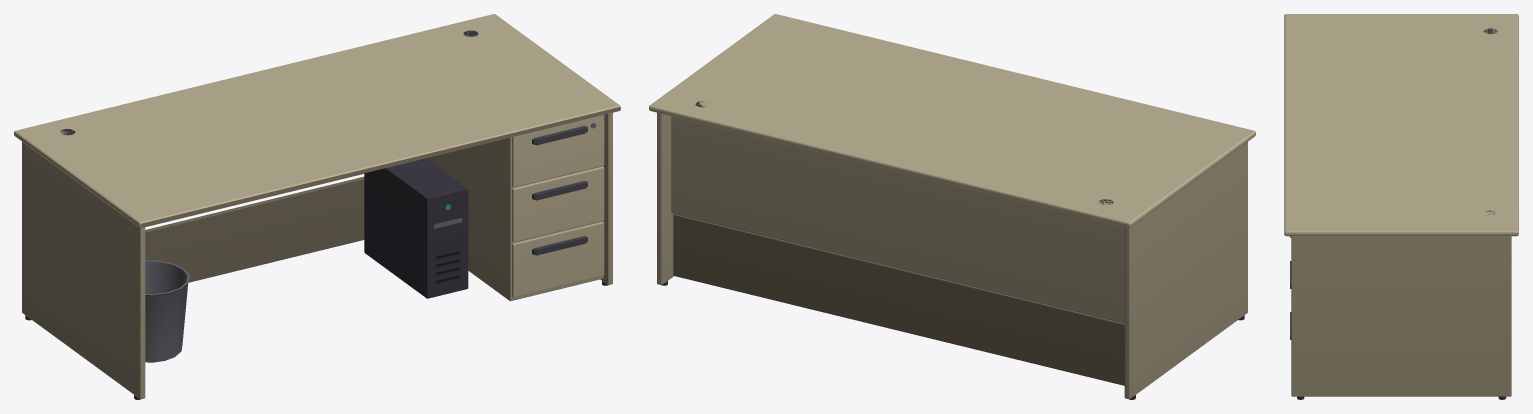
The model's file is office_desk.glb.
3 renders of one model, left to right at view 1: azimuth 30°, elevation 25°; view 2: azimuth 150°, elevation 25°; view 3: azimuth 270°, elevation 25°, orthographic. The views are drawn at different scales.
Visible parts, largest first — view 1: office_desk; view 2: office_desk; view 3: office_desk.
Part boxes in pixels (x1,y1,x2,y2): office_desk: (14,14,620,399); office_desk: (649,14,1255,399); office_desk: (1284,14,1518,399).
Bounding box in the file's own units: 2.2 × 0.8 × 1.
